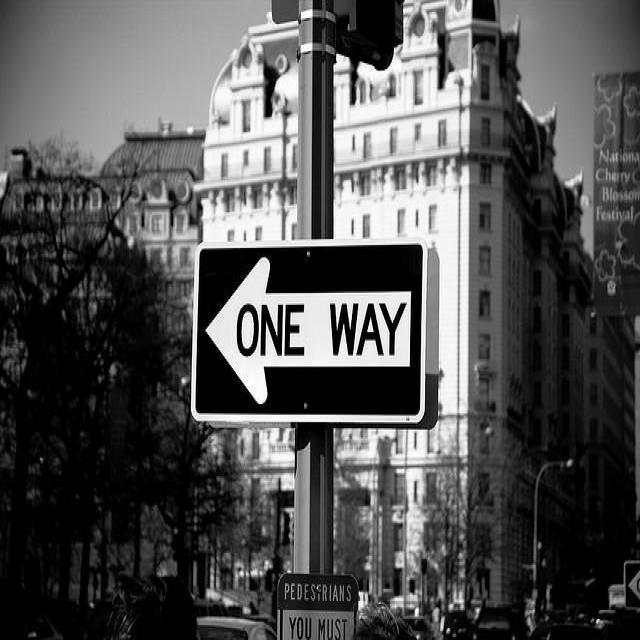vehicle: (470, 598, 526, 640), (197, 616, 277, 640), (603, 610, 640, 640), (442, 610, 474, 640)
